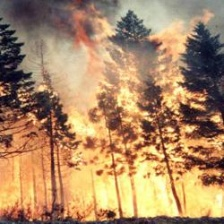fire: (70, 4, 224, 218), (1, 118, 66, 218)
